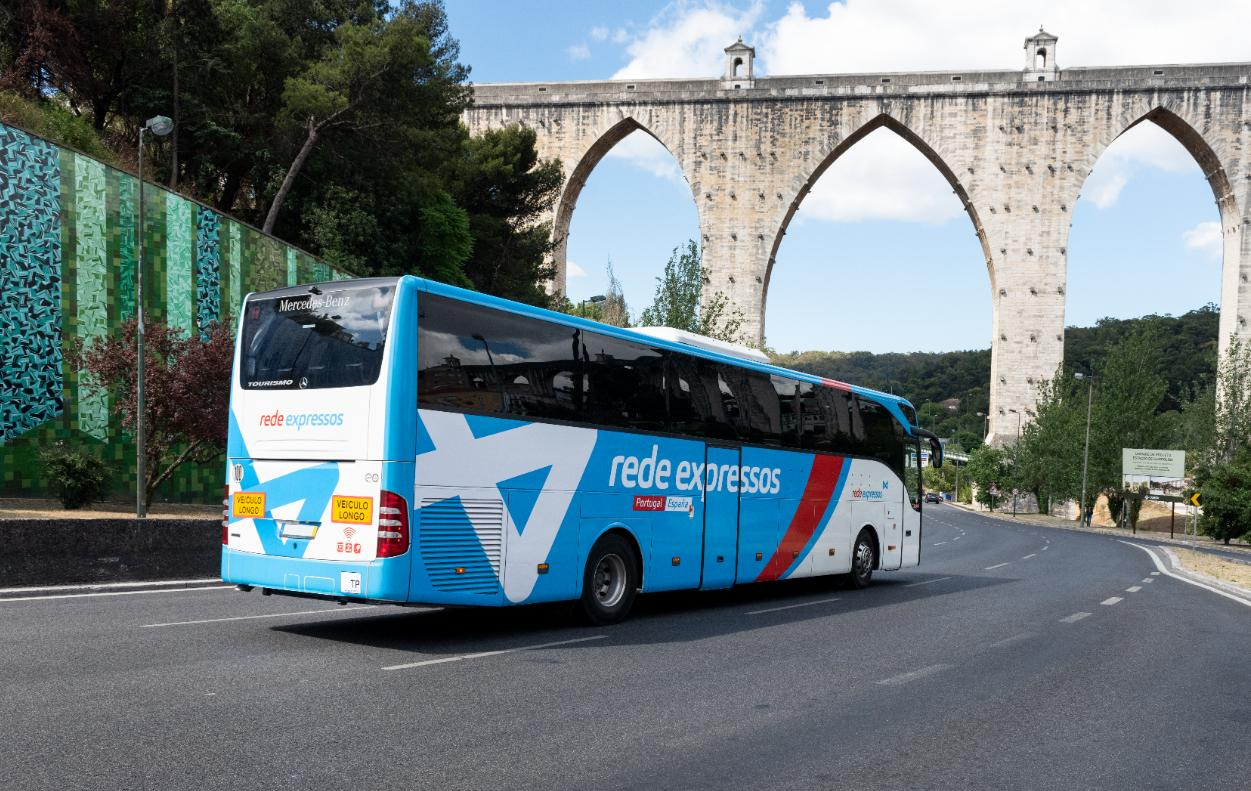vehicle: (220, 273, 943, 622)
